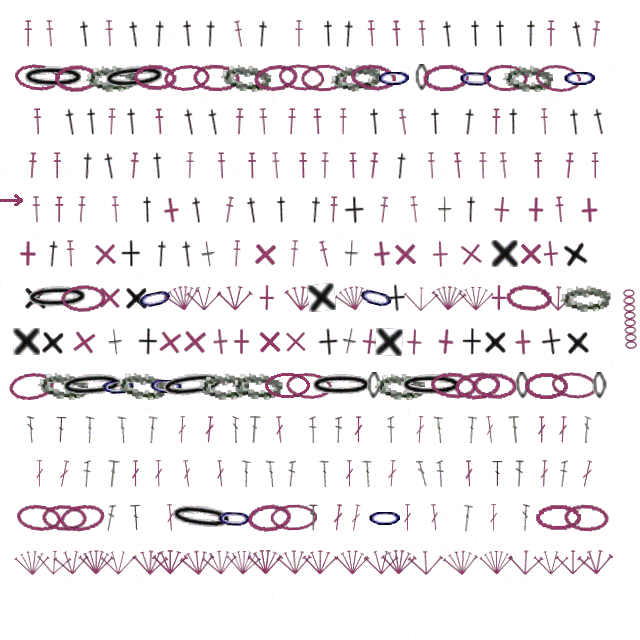chain: (158, 368, 227, 403), (167, 500, 236, 535), (100, 61, 169, 94), (58, 370, 126, 401), (24, 283, 91, 312), (20, 64, 87, 91), (308, 372, 375, 399), (398, 372, 465, 399), (329, 61, 382, 94), (58, 501, 107, 535), (220, 62, 272, 93), (37, 370, 89, 401), (116, 370, 168, 401), (7, 370, 56, 402), (252, 62, 300, 94), (534, 62, 582, 94), (15, 502, 63, 534), (277, 62, 326, 93), (550, 370, 599, 401), (355, 280, 398, 315), (13, 62, 61, 93), (349, 62, 397, 93), (429, 370, 477, 401), (453, 370, 501, 401), (232, 371, 283, 400), (246, 502, 293, 533), (285, 371, 333, 401), (134, 281, 176, 315), (560, 284, 611, 312), (163, 63, 210, 93), (505, 283, 552, 313), (86, 64, 136, 92), (503, 64, 553, 92), (199, 372, 249, 400), (375, 372, 425, 400), (192, 63, 240, 92), (300, 63, 348, 92), (422, 63, 469, 92), (563, 503, 610, 532), (132, 63, 178, 92), (482, 63, 528, 92), (60, 284, 107, 312), (41, 504, 88, 532), (472, 372, 518, 400), (270, 504, 317, 531), (54, 64, 99, 92), (264, 372, 310, 399), (535, 504, 581, 531), (524, 372, 569, 399), (147, 371, 186, 400), (99, 372, 138, 400), (215, 504, 254, 532), (457, 64, 495, 92), (375, 64, 413, 91), (561, 64, 599, 91), (366, 504, 404, 531), (515, 372, 530, 399), (592, 372, 607, 399), (415, 64, 429, 91), (367, 372, 381, 399)
double: (57, 460, 71, 488), (106, 460, 120, 488), (580, 460, 594, 488), (508, 416, 522, 443), (349, 504, 362, 532), (460, 504, 473, 532), (145, 416, 158, 443), (248, 416, 261, 443), (55, 416, 67, 443), (433, 416, 445, 443), (465, 416, 477, 443), (484, 416, 496, 443), (181, 460, 193, 487), (265, 460, 277, 487), (416, 460, 428, 487), (130, 504, 142, 531), (332, 504, 344, 531), (84, 416, 95, 443), (117, 416, 128, 443), (204, 416, 215, 443), (274, 416, 285, 443), (215, 460, 226, 487), (492, 460, 503, 487), (105, 504, 116, 531), (165, 504, 176, 531), (429, 504, 440, 531), (177, 416, 187, 443), (415, 416, 425, 443), (558, 416, 568, 443), (241, 460, 251, 487), (319, 460, 329, 487), (362, 460, 372, 487), (387, 460, 397, 487), (464, 460, 474, 487), (539, 460, 549, 487), (520, 504, 530, 531), (354, 416, 363, 443), (537, 416, 546, 443), (582, 416, 591, 443), (35, 460, 44, 487), (131, 460, 140, 487), (154, 460, 163, 487), (287, 460, 296, 487), (345, 460, 354, 487), (436, 460, 445, 487), (515, 460, 524, 487), (559, 460, 568, 487), (309, 504, 318, 531), (403, 504, 412, 531), (489, 504, 498, 531), (309, 416, 317, 443), (387, 416, 395, 443), (83, 460, 91, 487), (27, 416, 34, 443), (232, 416, 239, 443), (335, 416, 342, 443)
enseble_chain: (622, 289, 638, 350)
fan: (162, 281, 202, 314), (333, 281, 373, 314), (283, 283, 321, 313), (442, 547, 480, 577), (179, 547, 216, 577), (430, 283, 468, 312), (35, 547, 73, 576), (201, 547, 239, 576), (53, 547, 90, 576), (225, 547, 262, 576), (276, 547, 313, 576), (577, 547, 614, 576), (132, 548, 169, 576), (407, 548, 444, 576), (507, 548, 544, 576), (403, 284, 439, 312), (14, 548, 50, 576), (541, 284, 576, 312), (186, 284, 222, 311), (217, 284, 253, 311), (458, 284, 494, 311), (78, 548, 114, 575), (100, 548, 136, 575), (152, 548, 188, 575), (302, 548, 338, 575), (363, 548, 399, 575), (381, 548, 417, 575), (533, 548, 569, 575), (555, 548, 591, 575), (248, 548, 283, 575), (335, 548, 370, 575), (479, 548, 514, 575)
half_double: (590, 107, 609, 136), (569, 20, 587, 48), (62, 108, 80, 136), (181, 108, 199, 136), (205, 108, 223, 136), (460, 108, 478, 136), (101, 152, 119, 180), (392, 152, 410, 180), (44, 240, 62, 268), (126, 20, 143, 48), (151, 20, 168, 48), (202, 20, 219, 48), (254, 20, 271, 48), (340, 20, 357, 48), (79, 152, 96, 180), (189, 196, 206, 224), (244, 196, 261, 224), (307, 196, 324, 224), (153, 240, 170, 268), (179, 240, 196, 268), (77, 20, 93, 48), (440, 20, 456, 48), (567, 108, 583, 136), (180, 20, 196, 47), (523, 20, 539, 47), (84, 108, 100, 135), (124, 108, 140, 135), (367, 108, 383, 135), (150, 152, 166, 179), (463, 196, 479, 223), (317, 240, 332, 268), (321, 20, 336, 47), (468, 20, 483, 47), (493, 20, 508, 47), (428, 108, 443, 135), (506, 108, 521, 135), (140, 196, 155, 223), (274, 196, 289, 223), (232, 20, 246, 48), (222, 196, 236, 224), (589, 20, 602, 48), (397, 108, 410, 136), (377, 196, 390, 224), (367, 152, 380, 179), (408, 196, 421, 223), (44, 20, 56, 47), (128, 152, 140, 179), (270, 152, 282, 179), (452, 152, 464, 179), (498, 152, 510, 179), (563, 152, 575, 179), (554, 196, 566, 223), (288, 240, 300, 267), (104, 20, 115, 47), (366, 20, 377, 47), (391, 20, 402, 47), (417, 20, 428, 47), (32, 108, 43, 135), (106, 108, 117, 135), (154, 108, 165, 135), (234, 108, 245, 135), (258, 108, 269, 135), (286, 108, 297, 135), (312, 108, 323, 135), (539, 108, 550, 135), (27, 152, 38, 179), (216, 152, 227, 179), (426, 152, 437, 179), (31, 196, 42, 223), (76, 196, 87, 223), (110, 196, 121, 223), (328, 196, 339, 223), (65, 240, 76, 267), (231, 240, 242, 267), (23, 20, 33, 47), (294, 20, 304, 47), (546, 20, 556, 47), (338, 108, 348, 135), (491, 108, 501, 135), (52, 152, 62, 179), (185, 152, 195, 179), (247, 152, 257, 179), (298, 152, 308, 179), (320, 152, 330, 179), (348, 152, 358, 179), (478, 152, 488, 179), (533, 152, 543, 179), (590, 152, 600, 179), (54, 196, 64, 223)
noise: (0, 194, 25, 206)
single: (156, 195, 186, 225), (456, 239, 486, 269), (69, 327, 99, 357), (155, 327, 185, 357), (561, 238, 590, 269), (487, 195, 516, 224), (367, 239, 396, 268), (536, 239, 565, 268), (307, 283, 336, 312), (180, 327, 209, 356), (206, 327, 235, 356), (355, 327, 384, 356), (431, 327, 460, 356), (575, 196, 603, 224), (91, 240, 119, 268), (251, 240, 279, 268), (391, 240, 419, 268), (426, 240, 454, 268), (375, 328, 403, 356), (400, 328, 428, 356), (509, 328, 537, 356), (522, 196, 549, 223), (14, 240, 41, 267), (491, 240, 518, 267), (517, 240, 544, 267), (96, 284, 123, 311), (253, 284, 280, 311), (485, 284, 512, 311), (13, 328, 40, 355), (228, 328, 255, 355), (256, 328, 283, 355), (282, 328, 309, 355), (40, 328, 66, 356), (565, 328, 591, 356), (539, 327, 563, 356), (23, 284, 48, 311), (124, 284, 149, 311), (483, 328, 508, 355), (384, 284, 407, 312), (343, 196, 365, 224), (317, 328, 339, 356), (120, 240, 141, 267), (137, 328, 158, 355), (461, 328, 482, 355), (340, 327, 359, 356), (200, 240, 217, 268), (107, 328, 124, 356), (344, 240, 359, 267), (438, 196, 452, 223)
